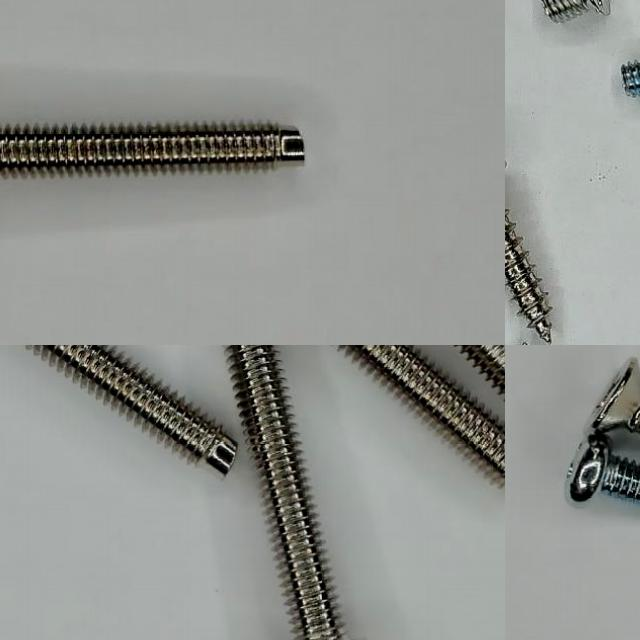Screw: (225, 345, 342, 640), (26, 345, 237, 474), (344, 345, 505, 477), (0, 122, 304, 172), (505, 209, 550, 343), (566, 431, 640, 503), (588, 359, 640, 437), (540, 0, 609, 21)
